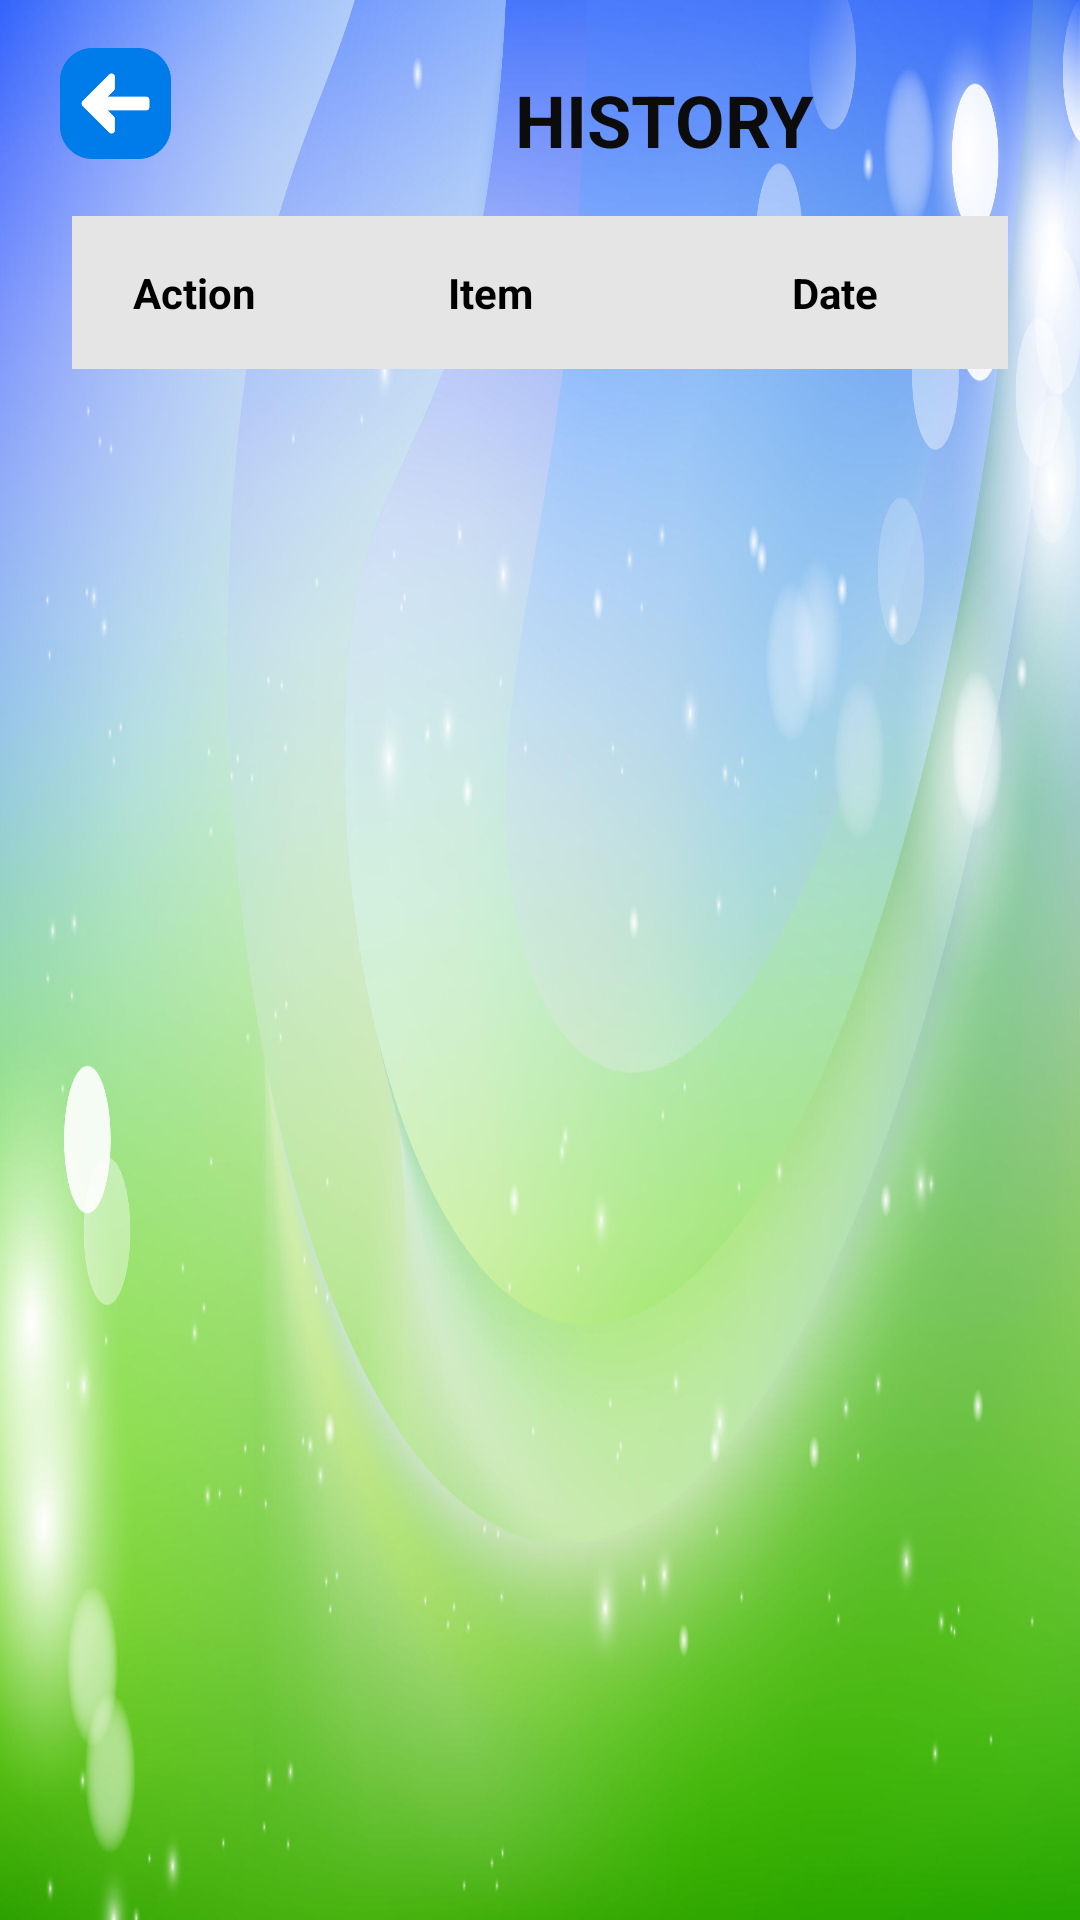

Icon click points for this 1080 x 1920 phone screenshot, format (x,y):
Back: (115,103)
